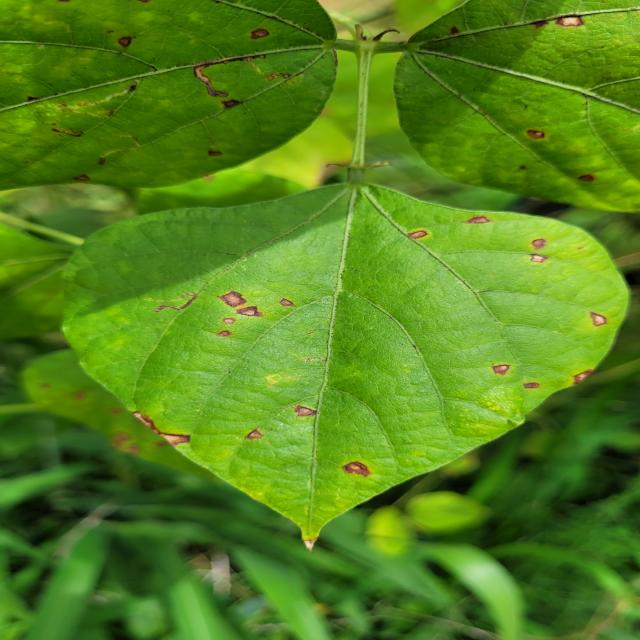Dolicos bean_cercospora leaf spot: (64, 176, 624, 547), (0, 0, 348, 186), (404, 0, 640, 218)
